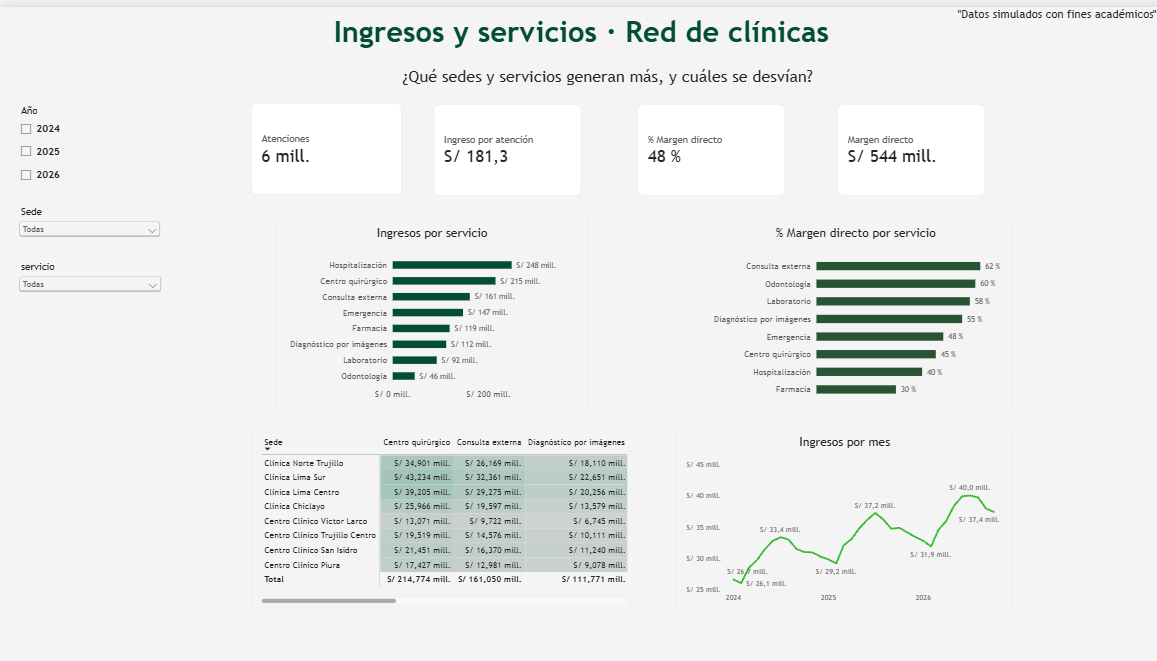

This screenshot's page, from the dashboard's own definition file:
{"tool":"powerbi","page":{"name":"Ingresos y servicios","canvas":[1920,1080],"ordinal":1},"visuals":[{"type":"textbox","box":[662,98,840,62],"z":0},{"type":"textbox","box":[550,12.5,832,98],"z":1000},{"type":"textbox","box":[1576,0,344,62],"z":2000},{"type":"slicer","fields":{"Values":["dim_fecha.anio"]},"box":[27.5,160,242.5,150],"z":3000},{"type":"slicer","fields":{"Values":["dim_sede.sede"]},"box":[27.5,327.5,242,76],"z":4000},{"type":"slicer","fields":{"Values":["dim_servicio.servicio"]},"box":[26.8,417.8,243,75],"z":5000},{"type":"cardVisual","fields":{"Data":["Medidas1.% Margen directo"]},"box":[1050,160,243,150],"z":6000},{"type":"cardVisual","fields":{"Data":["Medidas1.Margen directo"]},"box":[1380,160,243,150],"z":8000},{"type":"cardVisual","fields":{"Data":["Medidas1.Ingreso por atención"]},"box":[715,160,243,150],"z":9000},{"type":"lineChart","fields":{"Category":["dim_fecha.mes"],"Y":["Medidas1.Ingresos"]},"box":[1113.3,690,553.3,310],"z":10000},{"type":"barChart","fields":{"Category":["dim_servicio.servicio"],"Y":["Medidas1.Ingresos"]},"box":[453.3,346.7,516,320],"z":11000},{"type":"barChart","fields":{"Category":["dim_servicio.servicio"],"Y":["Medidas1.% Margen directo"]},"box":[1150,346.7,516,320],"z":12000},{"type":"pivotTable","fields":{"Columns":["dim_servicio.servicio"],"Rows":["dim_sede.sede"],"Values":["Medidas1.Ingresos"]},"box":[413.3,690,636.7,310],"z":13000},{"type":"cardVisual","fields":{"Data":["Medidas1.Atenciones"]},"box":[412.8,159,248.7,151.3],"z":13001}]}

Visuals, with their boxes in screenshot pixels (x1, y1, x2, y2), scaled from the page's 1920x1080 canvas onto the 1157x661 screenshot:
textbox: <region>399, 60, 905, 98</region>
textbox: <region>331, 8, 833, 68</region>
textbox: <region>950, 0, 1156, 38</region>
slicer - dim_fecha.anio: <region>17, 98, 163, 190</region>
slicer - dim_sede.sede: <region>17, 200, 162, 247</region>
slicer - dim_servicio.servicio: <region>16, 256, 163, 302</region>
cardVisual - Medidas1.% Margen directo: <region>633, 98, 779, 190</region>
cardVisual - Medidas1.Margen directo: <region>832, 98, 978, 190</region>
cardVisual - Medidas1.Ingreso por atención: <region>431, 98, 577, 190</region>
lineChart - dim_fecha.mes x Medidas1.Ingresos: <region>671, 422, 1004, 612</region>
barChart - dim_servicio.servicio x Medidas1.Ingresos: <region>273, 212, 584, 408</region>
barChart - dim_servicio.servicio x Medidas1.% Margen directo: <region>693, 212, 1004, 408</region>
pivotTable - dim_servicio.servicio x dim_sede.sede: <region>249, 422, 633, 612</region>
cardVisual - Medidas1.Atenciones: <region>249, 97, 399, 190</region>
